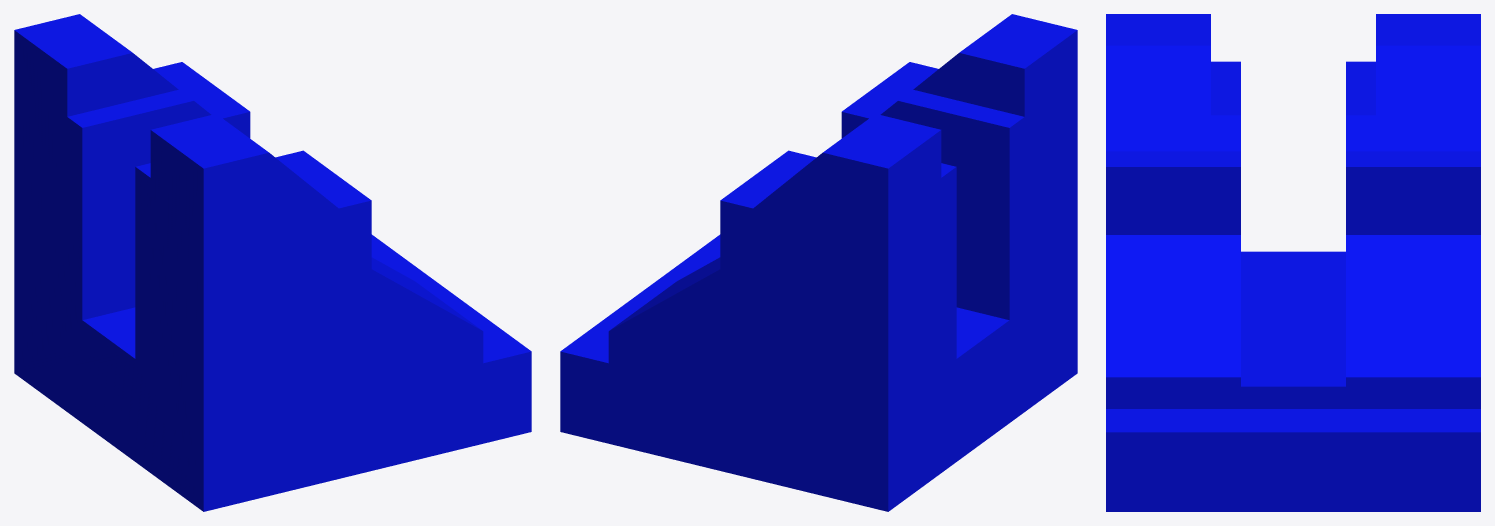
File: TP3 Parte 2.obj
3 views of the same model, side by side, from view 1: azimuth 30°, elevation 25°; view 2: azimuth 150°, elevation 25°; view 3: azimuth 270°, elevation 25° (orthographic).
Visible parts, largest first — view 1: Sólido1; view 2: Sólido1; view 3: Sólido1.
Part boxes in pixels (box(x1,y1,x2,y2)): Sólido1: box(14, 14, 531, 511); Sólido1: box(560, 14, 1077, 511); Sólido1: box(1106, 14, 1480, 511).
Size of the model in its own units: 50 by 50 by 50.
